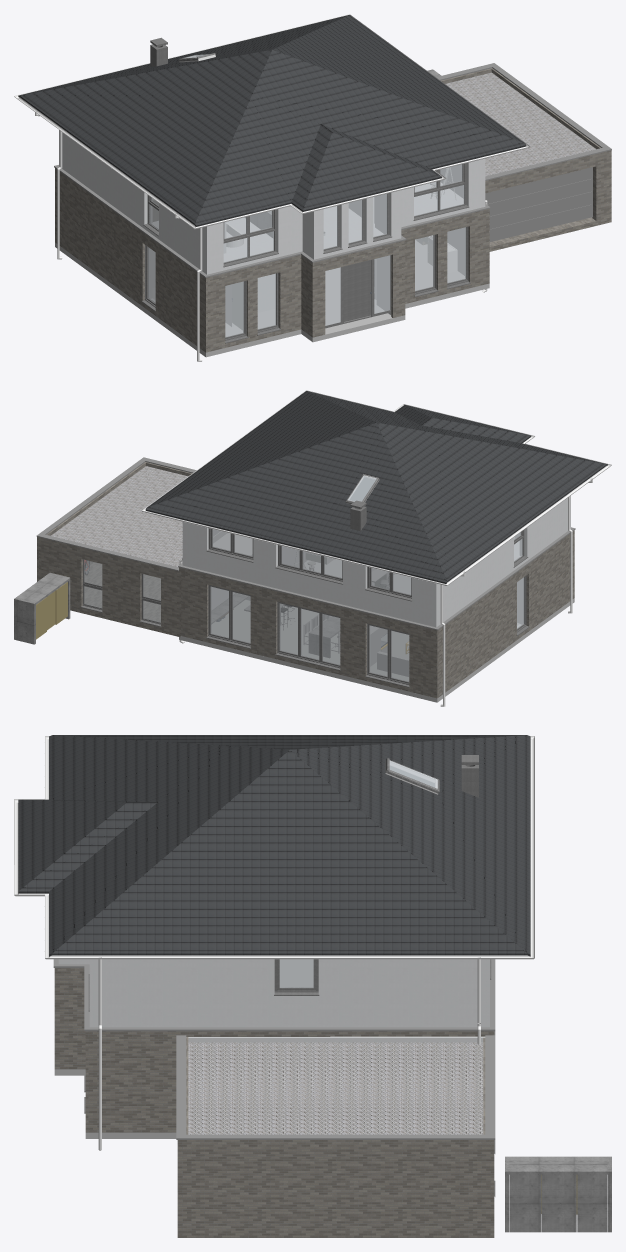
File: home-2fl.fbx
3 renders of one model, top to bottom at view 1: azimuth 30°, elevation 25°; view 2: azimuth 150°, elevation 25°; view 3: azimuth 270°, elevation 25°, orthographic. The views are drawn at different scales.
Parts seen in each view (by area): view 1: :Daudrich_Hauptdach, :Klinker Beige1, :Putz glatt Weiss, Glas Normalglas, Farbe, grau, :Farbe, DB 702, 00_Schotter Grau, :Farbe, grau, :Kunststoff PE, weiss, 00_Verputz, glatt, weiß, :Fensterrahmen; view 2: :Daudrich_Hauptdach, :Klinker Beige1, :Putz glatt Weiss, Glas Normalglas, 00_Schotter Grau, :Farbe, DB 702, :Farbe, grau, :Kunststoff PE, weiss, Farbe, grau, Beton, Sichtbeton Platten, Holz Schalung, natur, liegend, Verputz, glatt, weiß (+3 smaller); view 3: :Daudrich_Hauptdach, :Klinker Beige1, 00_Schotter Grau, :Putz glatt Weiss, Beton, Sichtbeton Platten, Farbe, grau, :Kunststoff PE, weiss, 00_Verputz, glatt, weiß, :Farbe, DB 702, Glas Normalglas, Farbe, weiß, :Farbe, grau.
Boxes of the visible parts, x1,y1,x2,y2 form: :Daudrich_Hauptdach: (18,15,526,226); :Klinker Beige1: (55,68,611,352); :Putz glatt Weiss: (59,130,485,326); Glas Normalglas: (148,54,465,337); Farbe, grau: (54,63,611,277); :Farbe, DB 702: (141,37,470,343); 00_Schotter Grau: (445,72,595,176); :Farbe, grau: (55,182,489,357); :Kunststoff PE, weiss: (14,14,530,361); 00_Verputz, glatt, weiß: (149,228,464,315); :Fensterrahmen: (232,197,428,329); :Daudrich_Hauptdach: (145,391,607,583); :Klinker Beige1: (37,462,574,698); :Putz glatt Weiss: (182,496,570,627); Glas Normalglas: (84,475,524,681); 00_Schotter Grau: (51,466,187,566); :Farbe, DB 702: (80,500,529,687); :Farbe, grau: (179,561,574,702); :Kunststoff PE, weiss: (142,390,611,706); Farbe, grau: (36,457,575,630); Beton, Sichtbeton Platten: (14,572,339,657); Holz Schalung, natur, liegend: (36,582,67,639); Verputz, glatt, weiß: (370,569,389,665); :Daudrich_Hauptdach: (18,735,530,956); :Klinker Beige1: (54,968,494,1237); 00_Schotter Grau: (188,1042,483,1134); :Putz glatt Weiss: (52,955,527,1027); Beton, Sichtbeton Platten: (505,1156,611,1232); Farbe, grau: (53,959,495,1139); :Kunststoff PE, weiss: (14,736,534,1150); 00_Verputz, glatt, weiß: (188,1036,485,1042); :Farbe, DB 702: (84,755,495,1196); Glas Normalglas: (279,760,437,987); Farbe, weiß: (280,959,313,986); :Farbe, grau: (54,1069,176,1138).
Bounding box in the file's own units: 2071 × 1700 × 962.
